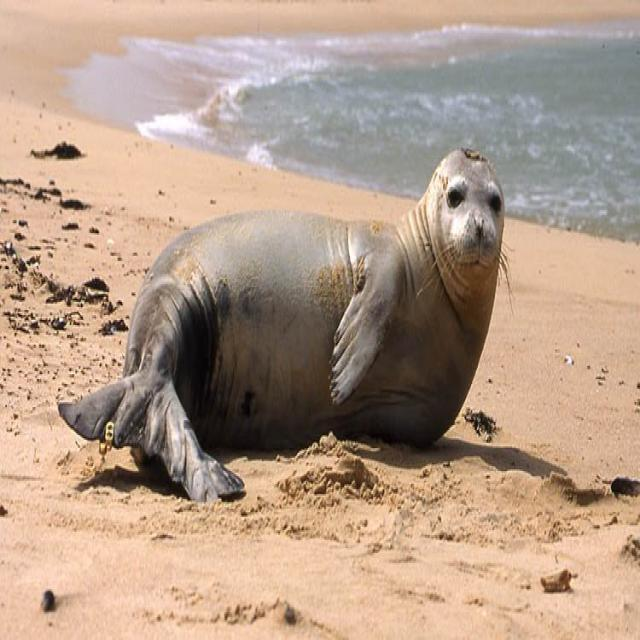seal: (58, 148, 510, 502)
